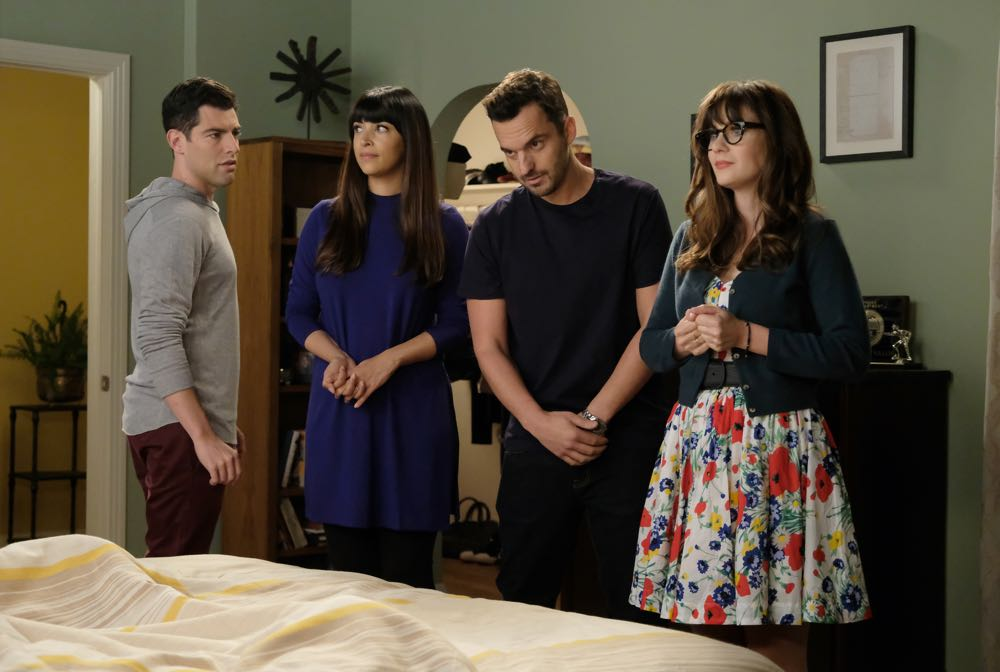person: (634, 66, 873, 635), (477, 65, 675, 600), (274, 77, 468, 586), (124, 77, 255, 555)
